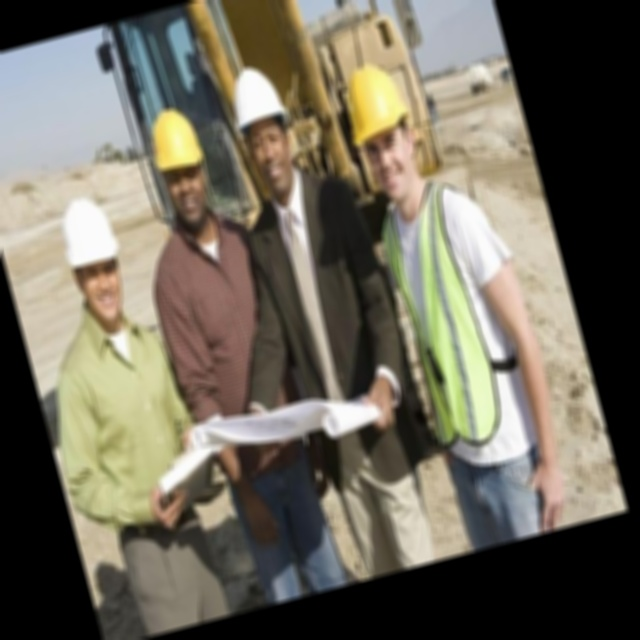Con_Casco: (336, 61, 421, 191), (222, 61, 304, 192), (53, 191, 134, 323), (143, 103, 217, 227)
Con_Chaleco: (371, 178, 547, 450)
Sin_Chaleco: (45, 306, 209, 540)
